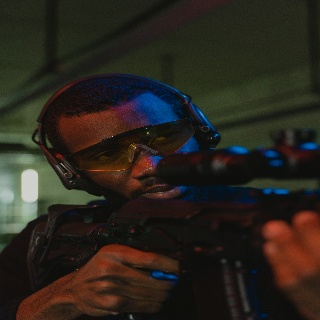rifle: (27, 142, 320, 319)
